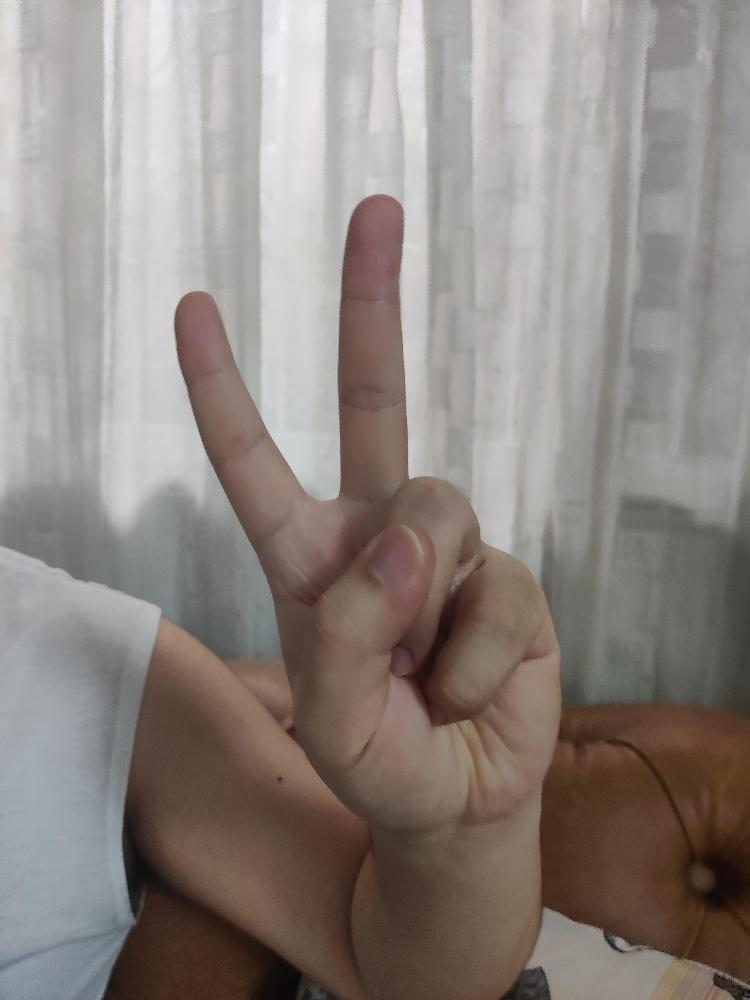v: (170, 189, 563, 834)
